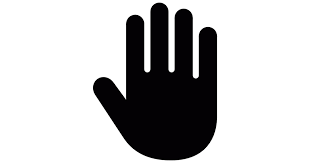palm: (121, 74, 217, 154)
